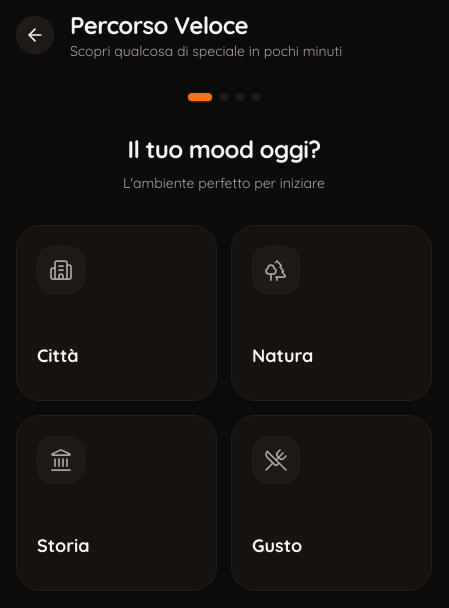
Scenario: Percorso Veloce → il messaggio, con "Riprova"
The width and height of the screenshot is (449, 608).
Click the button "Città" at (116, 313), box [16,225,217,401]
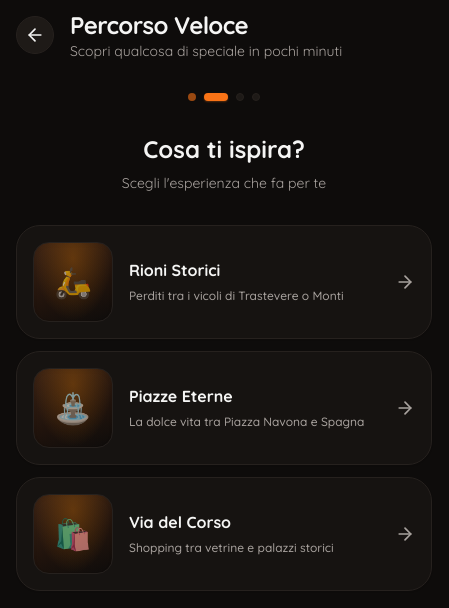
Click the button "Rioni Storici" at (73, 282), box [16,225,432,339]
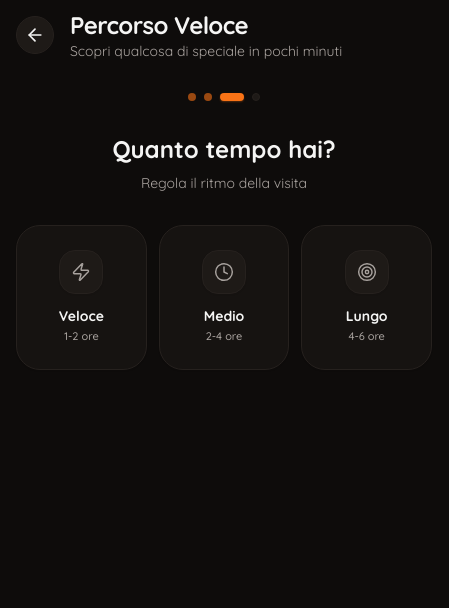
Click the button "Medio 2-4 ore" at (224, 297), box [159,225,289,370]
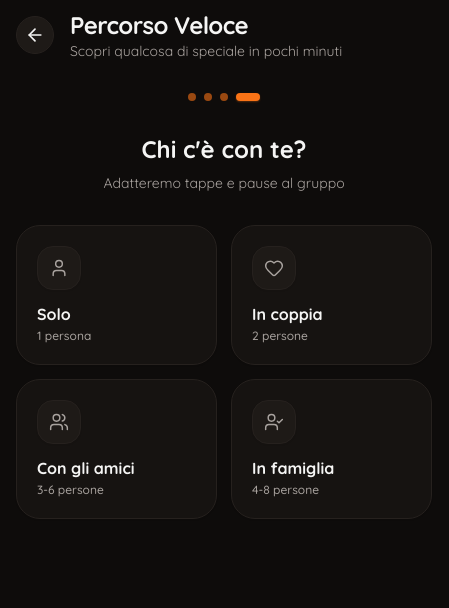
Click the button "Solo 1 persona" at (116, 295), box [16,225,217,365]
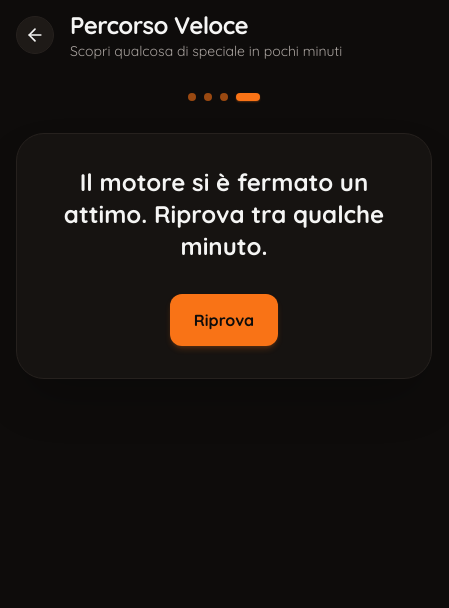
Expected: the heading "Il motore si è fermato un attimo. Riprova tra qualche minuto." is shown, [49,166,399,262]
Expected: the button "Riprova" is shown, [170,294,278,346]
